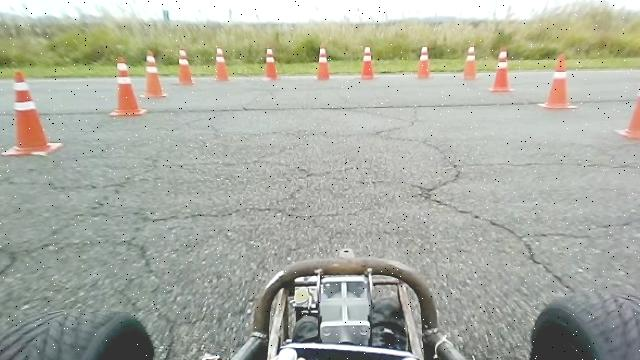red cone: (0, 69, 62, 156), (108, 54, 146, 115), (537, 52, 577, 109), (614, 63, 640, 140), (139, 49, 166, 98), (488, 47, 515, 92), (175, 47, 194, 84), (261, 47, 280, 80), (461, 44, 478, 80), (211, 47, 229, 81), (415, 46, 432, 78), (314, 46, 329, 80), (359, 46, 374, 78)
